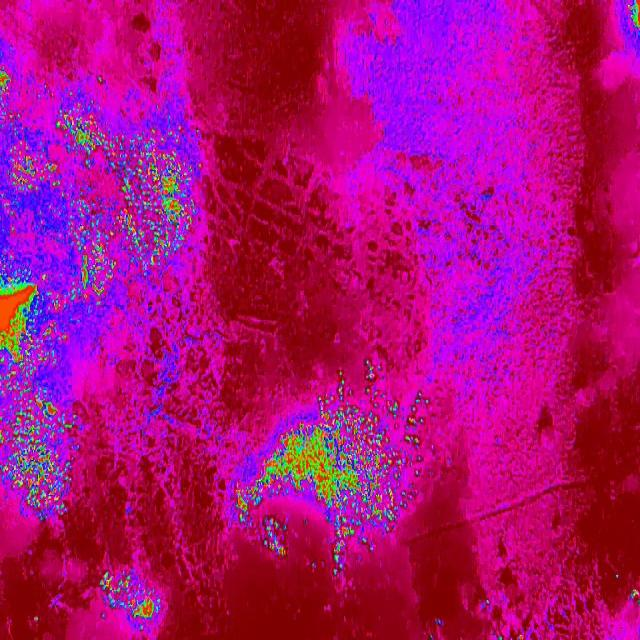fire: (0, 46, 83, 530), (83, 97, 207, 327), (232, 371, 432, 507), (92, 567, 170, 634), (329, 508, 398, 532), (262, 516, 290, 556), (329, 532, 352, 578), (624, 0, 640, 35)
